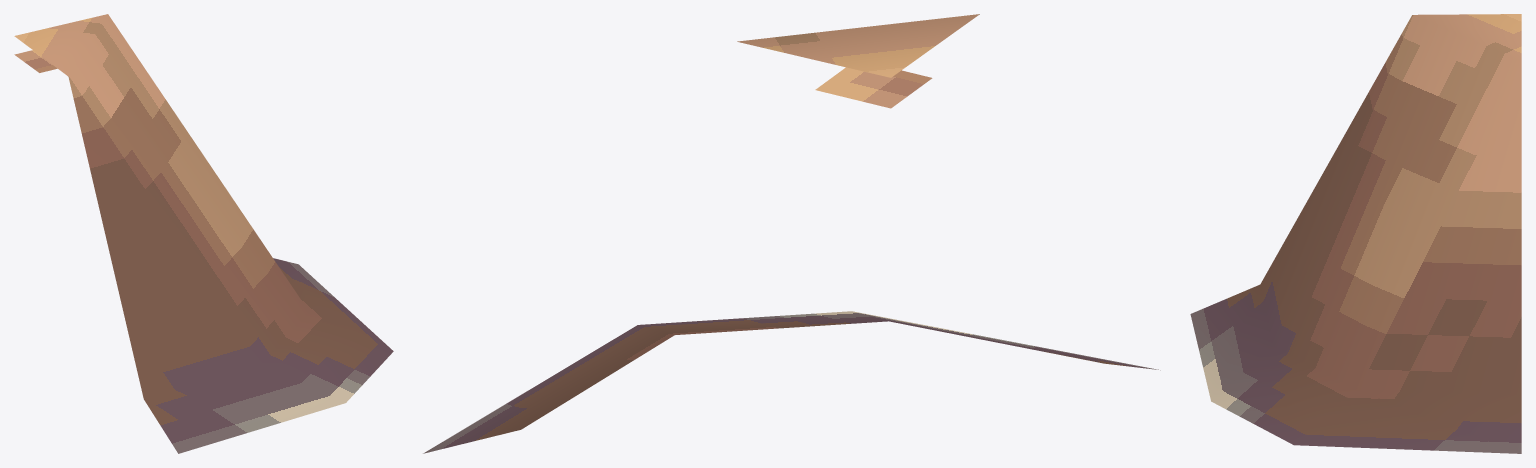
The picture shows the model from 3 angles, left to right: view 1: azimuth 30°, elevation 25°; view 2: azimuth 150°, elevation 25°; view 3: azimuth 270°, elevation 25°; orthographic projection. The views are drawn at different scales.
Bounding box in the file's own units: 1 × 1 × 1.
3 materials, 3 textured.
